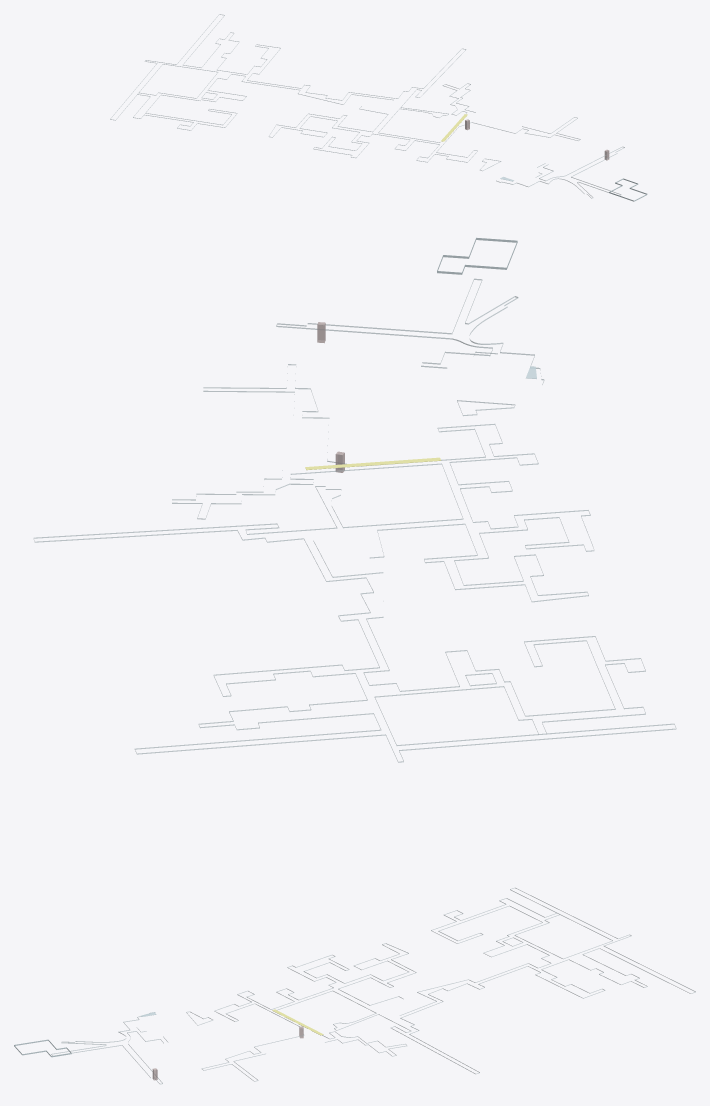
The model's file is bridge.glb.
The picture shows the model from 3 angles, top to bottom: view 1: azimuth 30°, elevation 25°; view 2: azimuth 150°, elevation 25°; view 3: azimuth 270°, elevation 25°; orthographic projection. The views are drawn at different scales.
Visible parts, largest first — view 1: StaticMeshActor_0_StaticMeshComponent0; view 2: StaticMeshActor_0_StaticMeshComponent0; view 3: StaticMeshActor_0_StaticMeshComponent0.
Boxes of the visible parts, x1,y1,x2,y2 form: StaticMeshActor_0_StaticMeshComponent0: (110,14,647,201); StaticMeshActor_0_StaticMeshComponent0: (33,237,676,762); StaticMeshActor_0_StaticMeshComponent0: (14,888,695,1084).
Bounding box in the file's own units: 768 × 26.44 × 1015.
7 materials, 1 textured.
